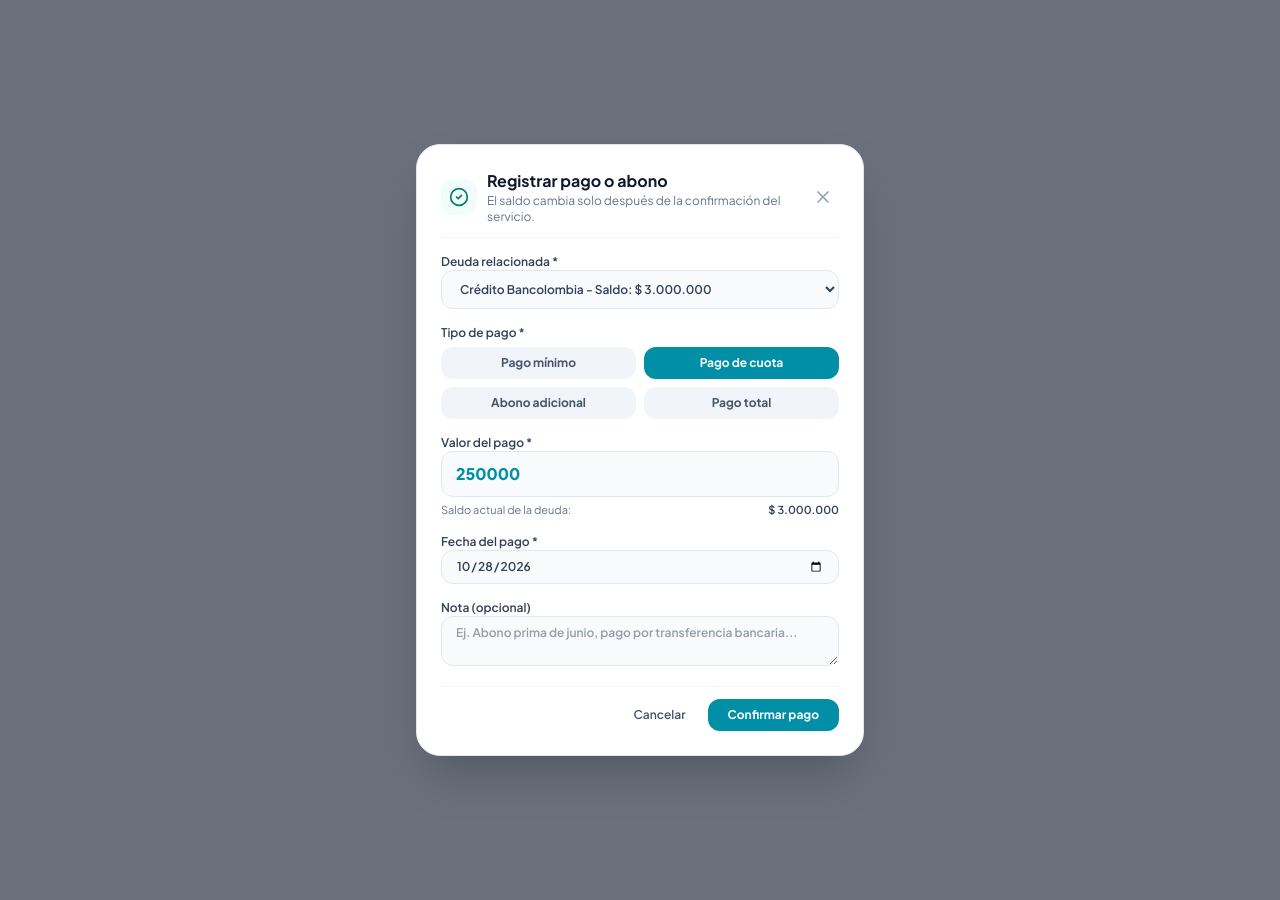
Test case: EP-10 — Gestión de pagos y abonos (HU-042, HU-043, HU-044) › HU-042 — Registrar un pago › CA-03 & TT-042.3: Valor <= 0 bloquea el envío y muestra mensaje de validación
The image size is (1280, 900).
Step 1. Replace the text in the number field labelled "Valor del pago * Saldo actual de la deuda: $ 3.000.000" with "0" → coordinates (640, 474), box [441, 451, 839, 497]
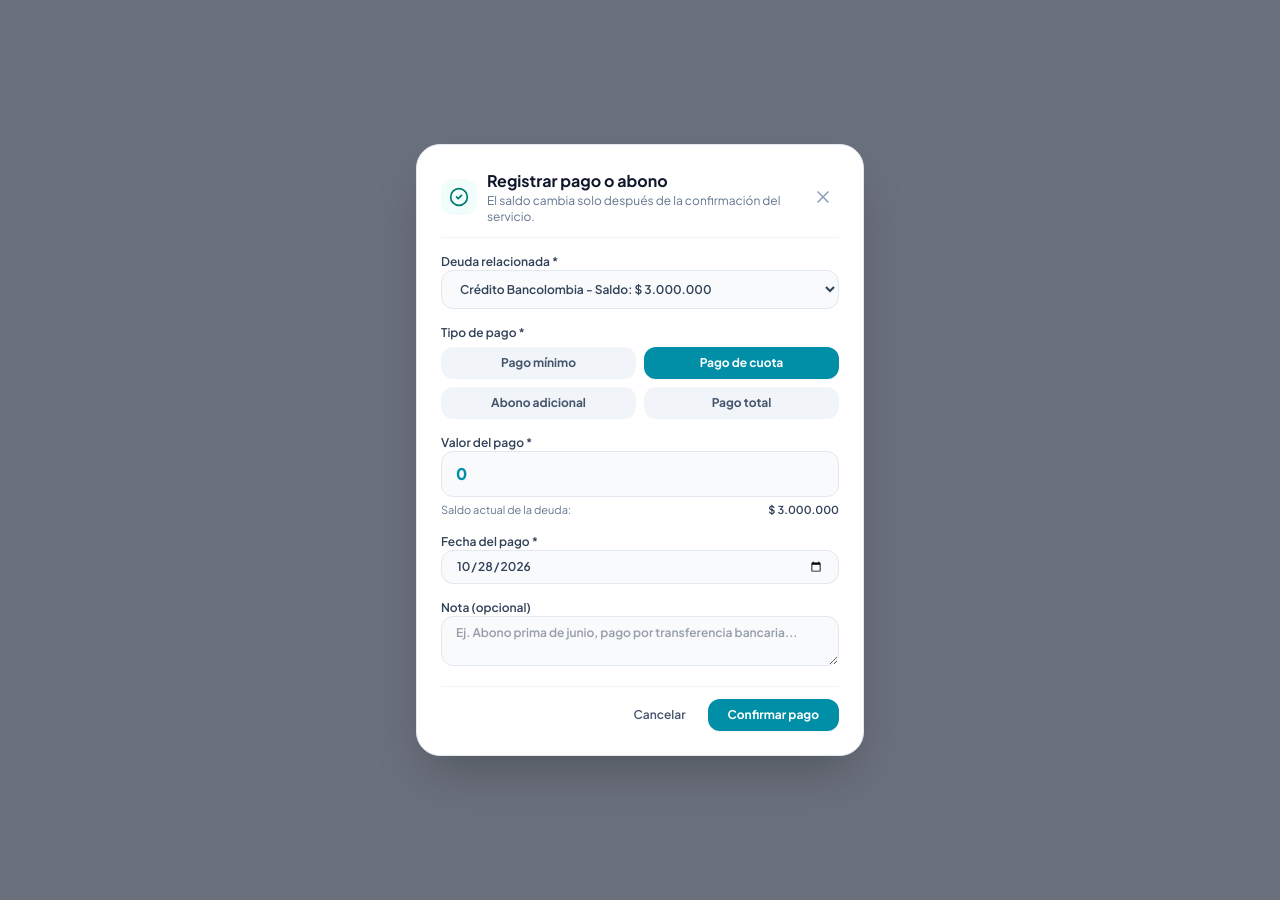
Step 2. Click the button "Confirmar pago" → coordinates (773, 715), box [708, 699, 839, 731]
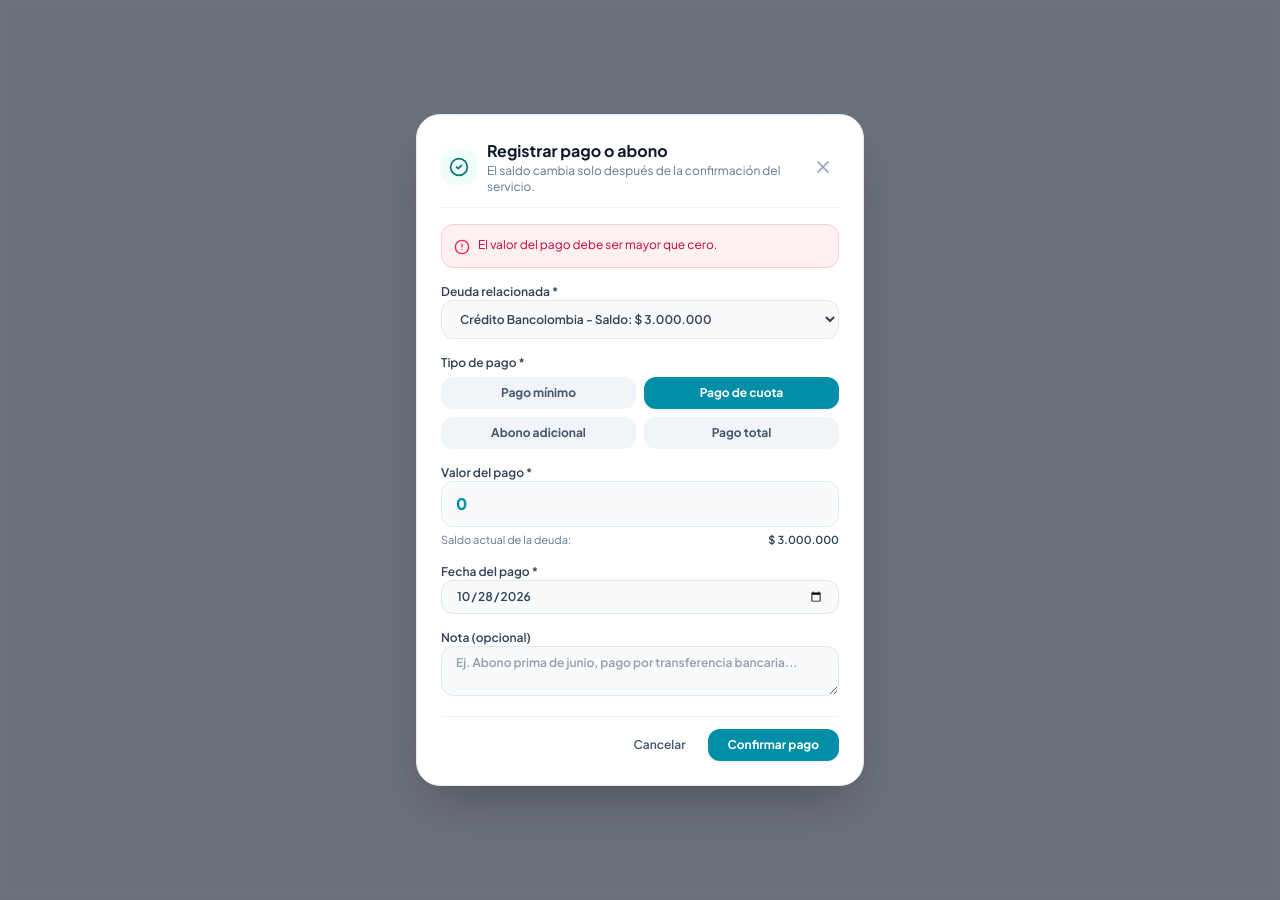
Check: the message "El valor del pago debe ser mayor que cero." is shown, box [441, 224, 839, 268]
Check: the text "El valor del pago debe ser mayor que cero." is shown, box [478, 237, 717, 253]
